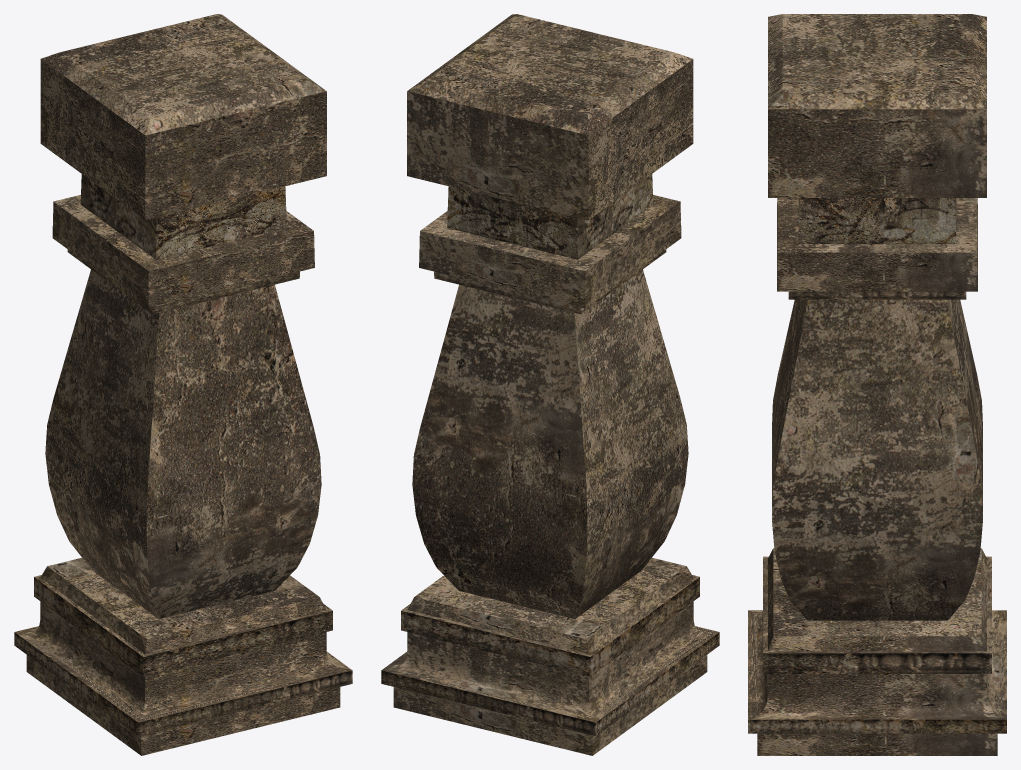
Rendered from materials_5_pillar_short_15.fbx.
3 renders of one model, left to right at view 1: azimuth 30°, elevation 25°; view 2: azimuth 150°, elevation 25°; view 3: azimuth 270°, elevation 25°, orthographic. The views are drawn at different scales.
Visible parts, largest first — view 1: materials_5_pillar_short_15; view 2: materials_5_pillar_short_15; view 3: materials_5_pillar_short_15.
Part boxes in pixels (<box>): materials_5_pillar_short_15: <box>14,14,352,755</box>; materials_5_pillar_short_15: <box>381,14,719,755</box>; materials_5_pillar_short_15: <box>748,14,1006,755</box>.
Size of the model in its own units: 44.08 by 122 by 44.08.
